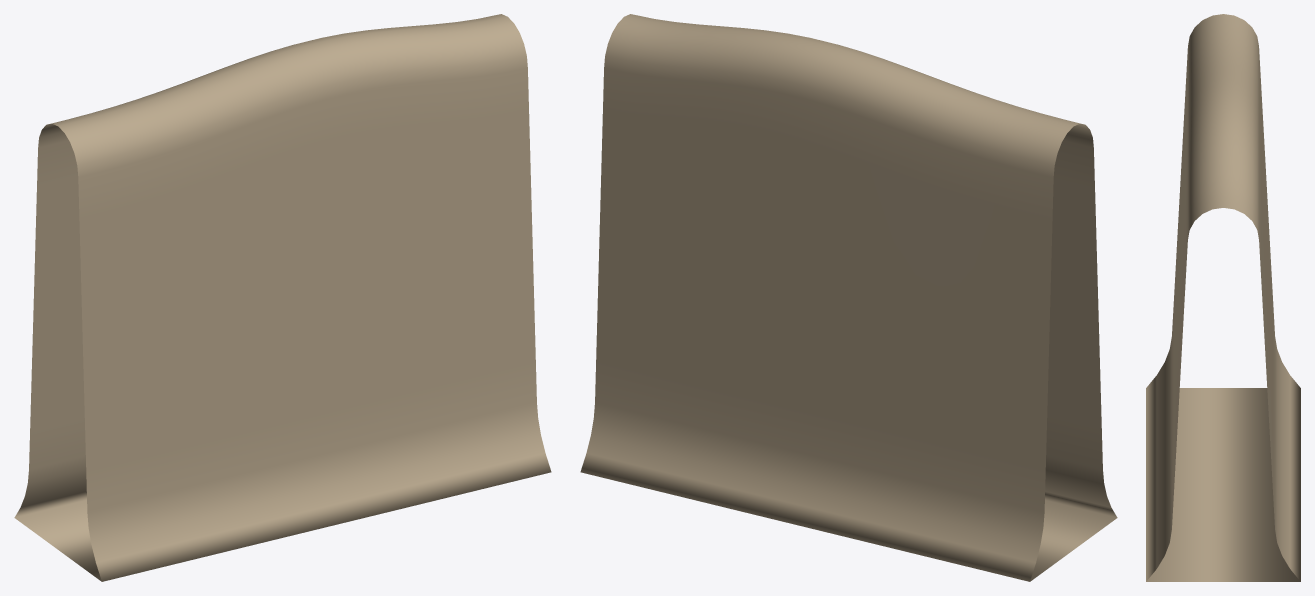
Rendered from KFB_Wall_straight.r4.glb.
3 renders of one model, left to right at view 1: azimuth 30°, elevation 25°; view 2: azimuth 150°, elevation 25°; view 3: azimuth 270°, elevation 25°, orthographic. The views are drawn at different scales.
Visible parts, largest first — view 1: KFB_Wall_straight; view 2: KFB_Wall_straight; view 3: KFB_Wall_straight.
Part boxes in pixels (x1,y1,x2,y2): KFB_Wall_straight: (14,14,551,581); KFB_Wall_straight: (580,14,1117,581); KFB_Wall_straight: (1146,14,1300,581).
Bounding box in the file's own units: 4 × 3.77 × 1.35.
